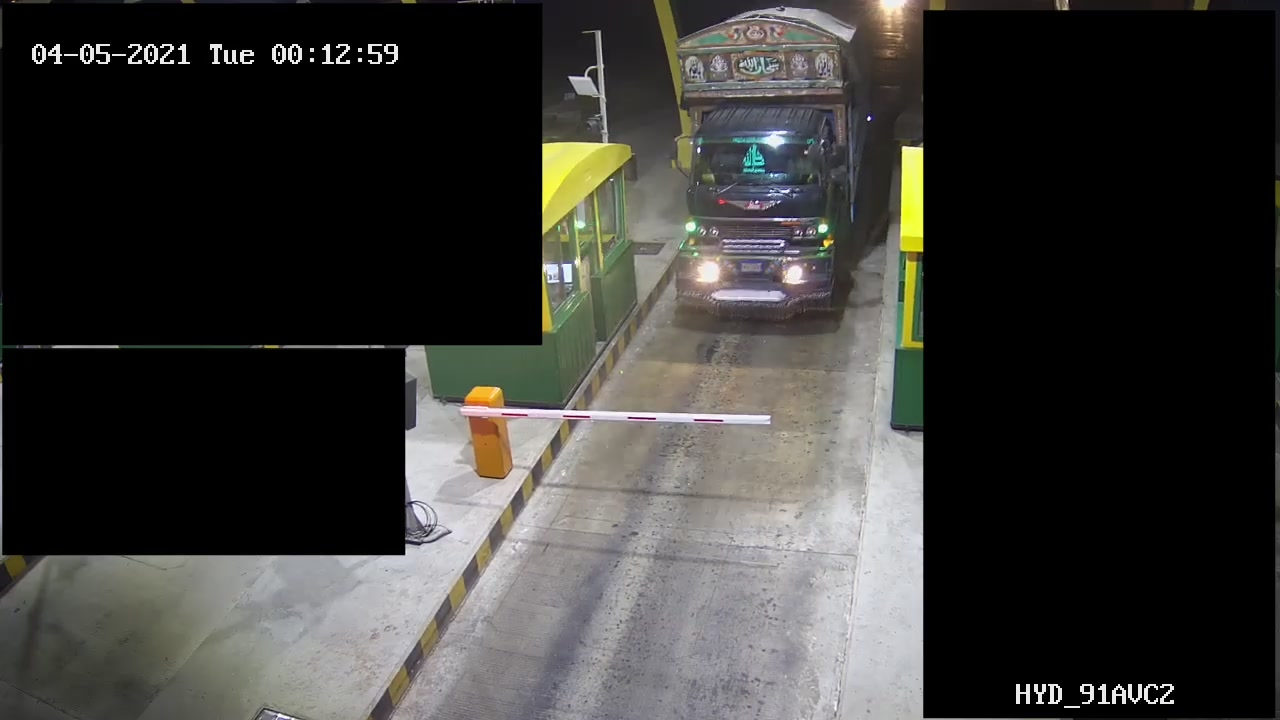F5: (659, 1, 879, 337)
